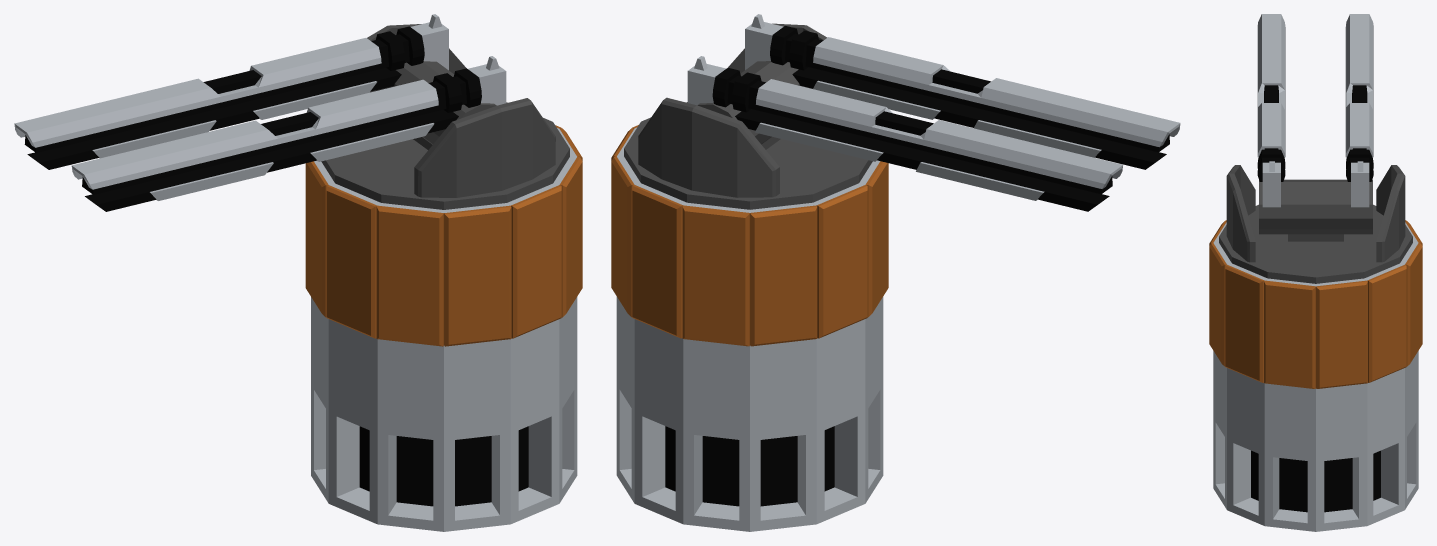
The model's file is laser_lvl2_fnal.fbx.
3 views of the same model, side by side, from view 1: azimuth 30°, elevation 25°; view 2: azimuth 150°, elevation 25°; view 3: azimuth 270°, elevation 25° (orthographic). The views are drawn at different scales.
Visible parts, largest first — view 1: polySurface314; view 2: polySurface314; view 3: polySurface314.
Part boxes in pixels (box(x1,y1,x2,y2)): polySurface314: box(14, 14, 582, 531); polySurface314: box(611, 14, 1180, 531); polySurface314: box(1209, 14, 1422, 531).
Bounding box in the file's own units: 1869 × 1505 × 871.
